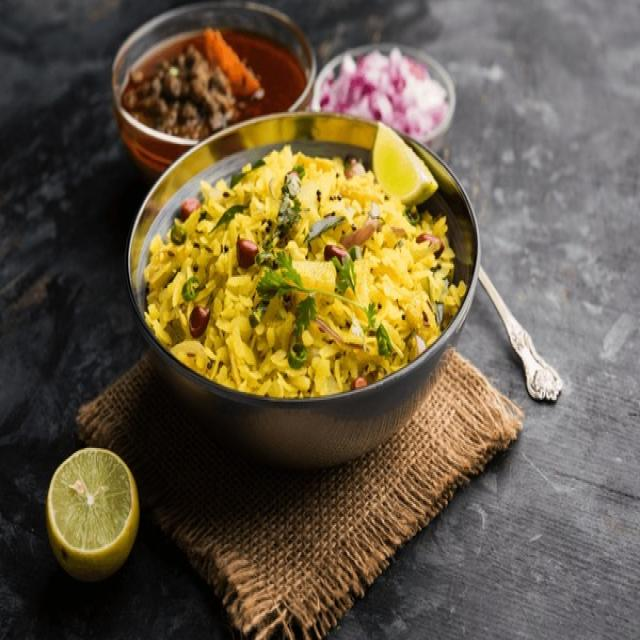POHA: (143, 149, 464, 394)
